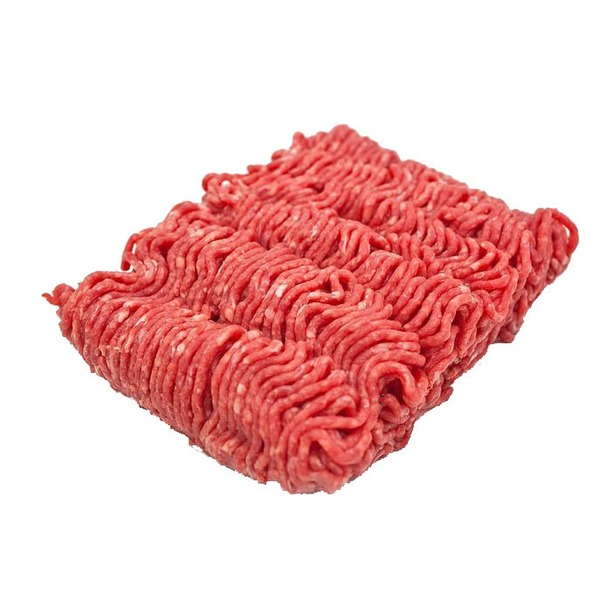ground_beef: (37, 105, 564, 490)
